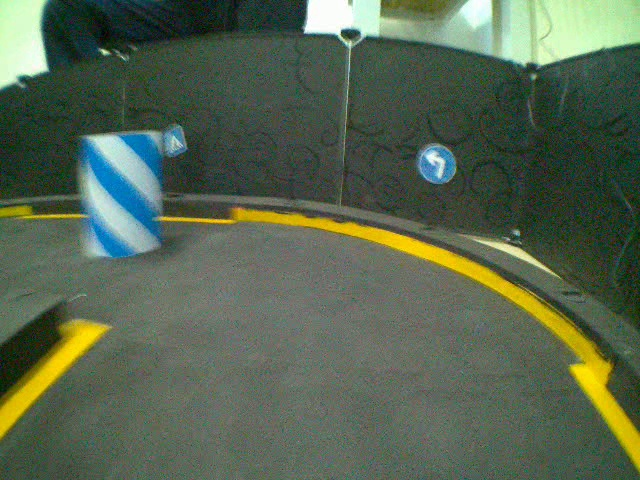bucket: (78, 128, 163, 261)
